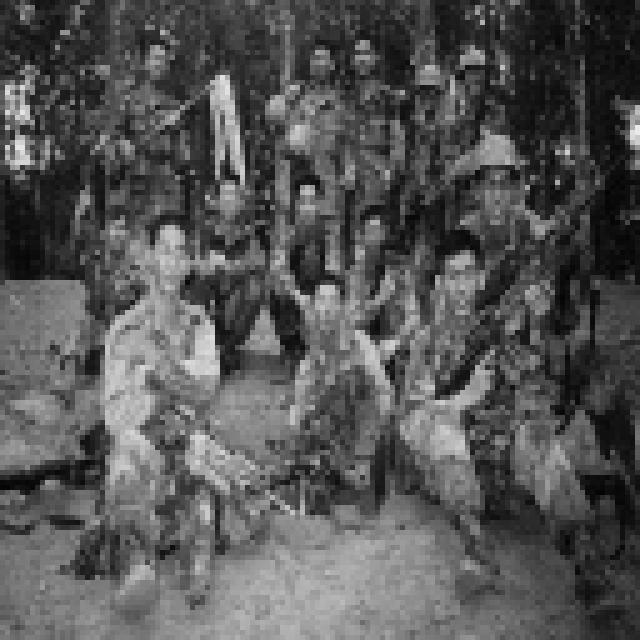Rifle: (412, 250, 574, 403), (500, 149, 630, 300), (0, 420, 125, 555), (100, 74, 242, 188)
